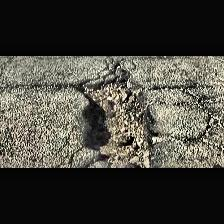pothole: (71, 74, 153, 168)
